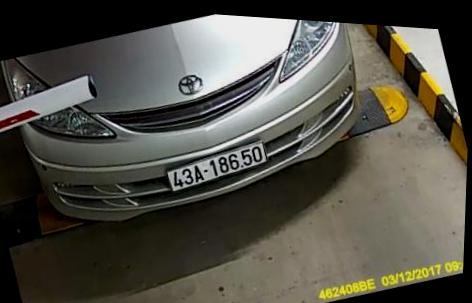License_Plate: (159, 135, 278, 201)
